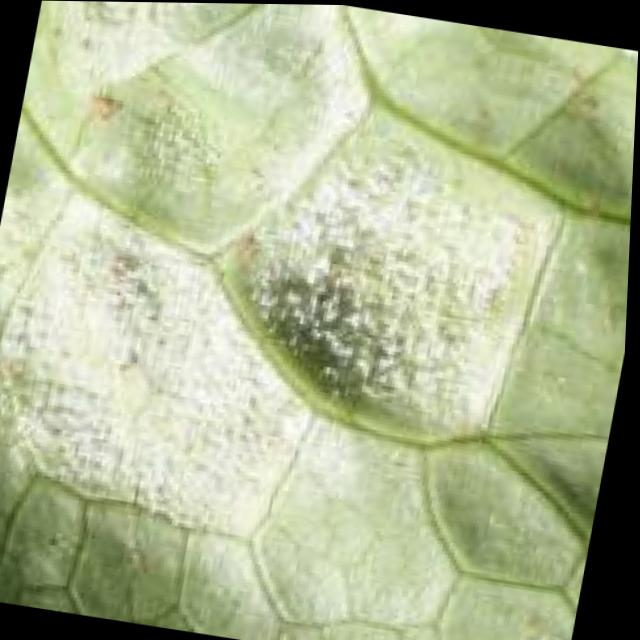Bad: (238, 114, 555, 437), (4, 204, 308, 537)
